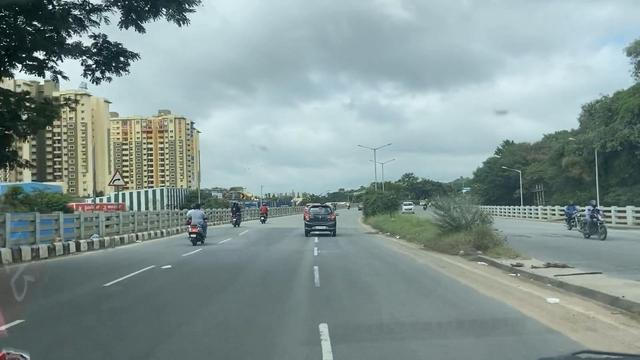LMV: (306, 203, 333, 233), (189, 204, 207, 242), (259, 203, 271, 223), (231, 201, 239, 222)
